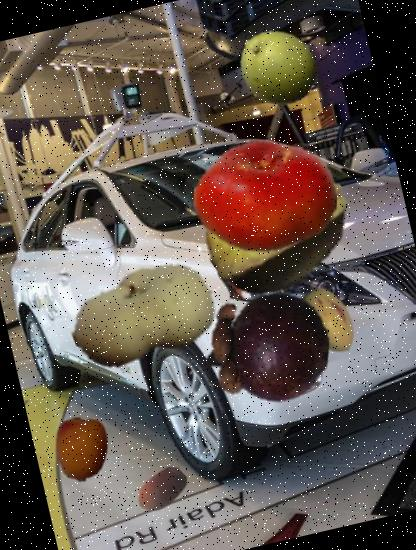Apple: (229, 19, 326, 116)
Apricot: (43, 410, 122, 488)
Carambula: (190, 138, 370, 318)
Hazelnut: (128, 456, 194, 522)
Mangostan: (192, 271, 342, 421)
Nectarine: (179, 110, 352, 282)
Peach: (55, 228, 232, 405)
Pepino: (284, 278, 370, 365)
